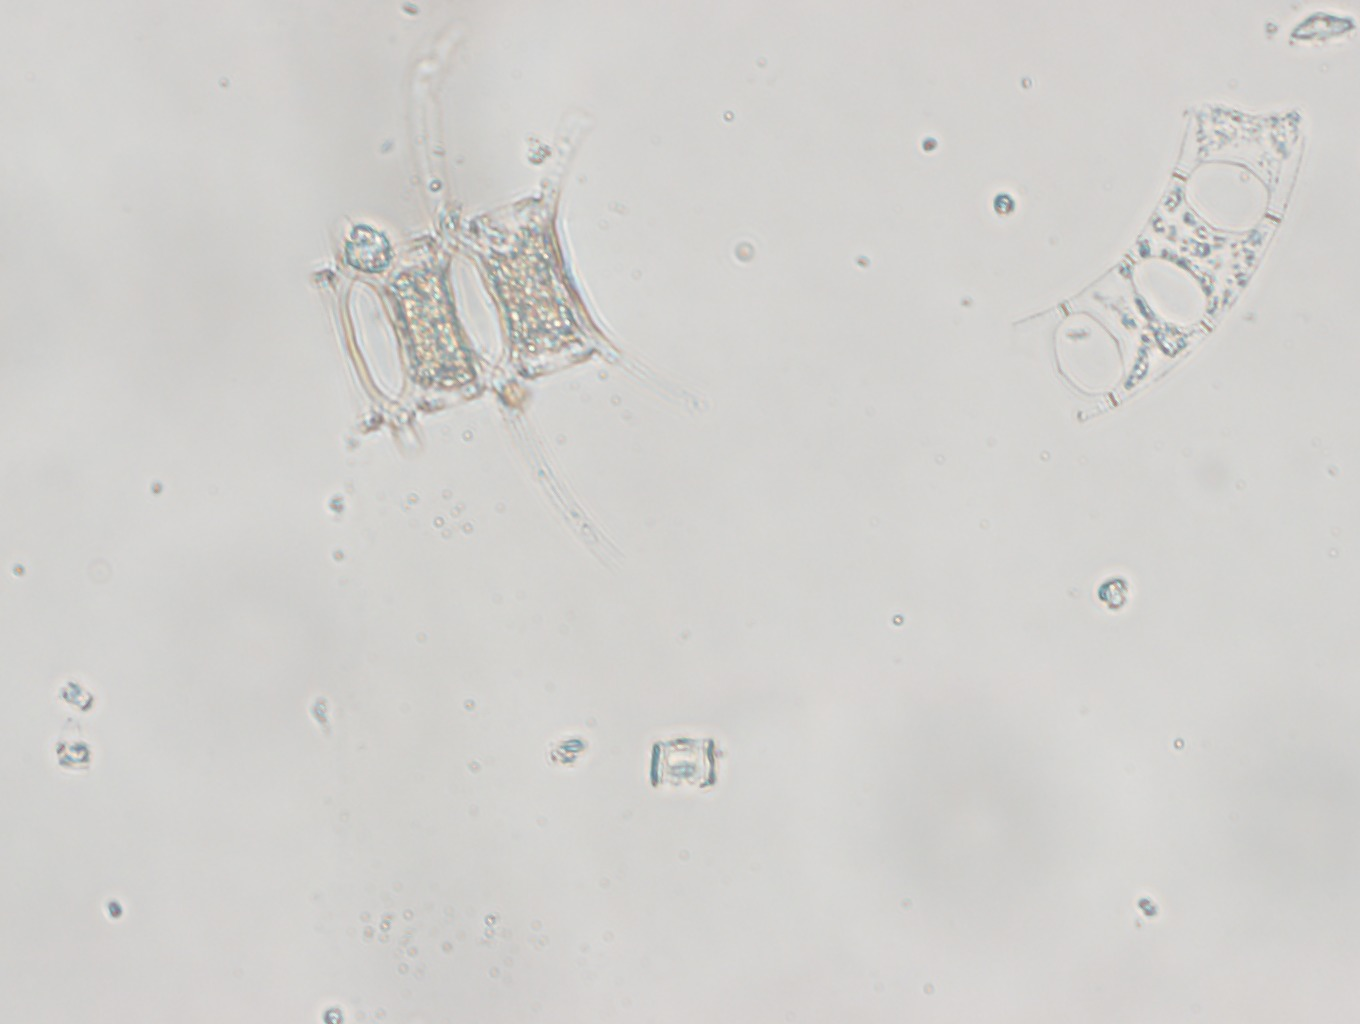chaetoceros: (311, 18, 717, 559)
eucampia: (1010, 93, 1309, 421)
